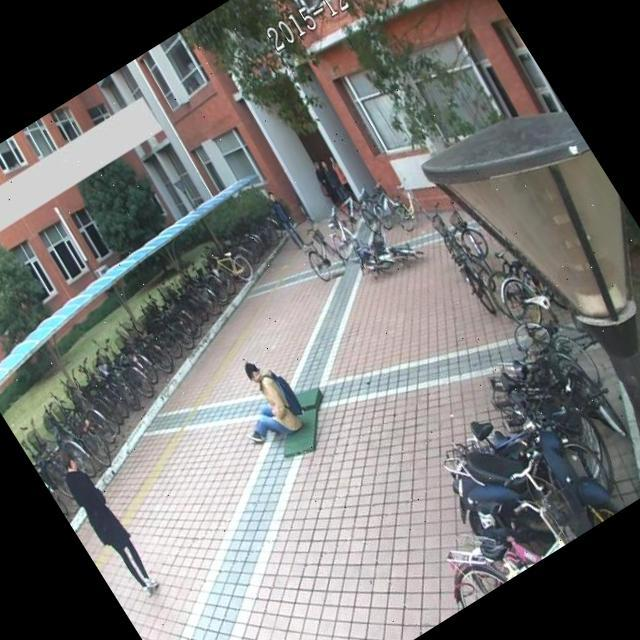person: (45, 440, 168, 608), (214, 344, 316, 457), (255, 182, 312, 256)
